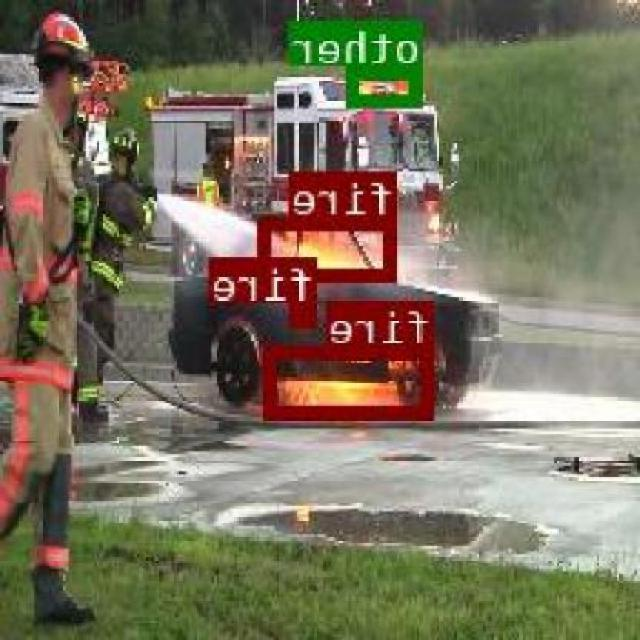Fire: (268, 344, 437, 414), (262, 214, 398, 280), (292, 302, 320, 324)
